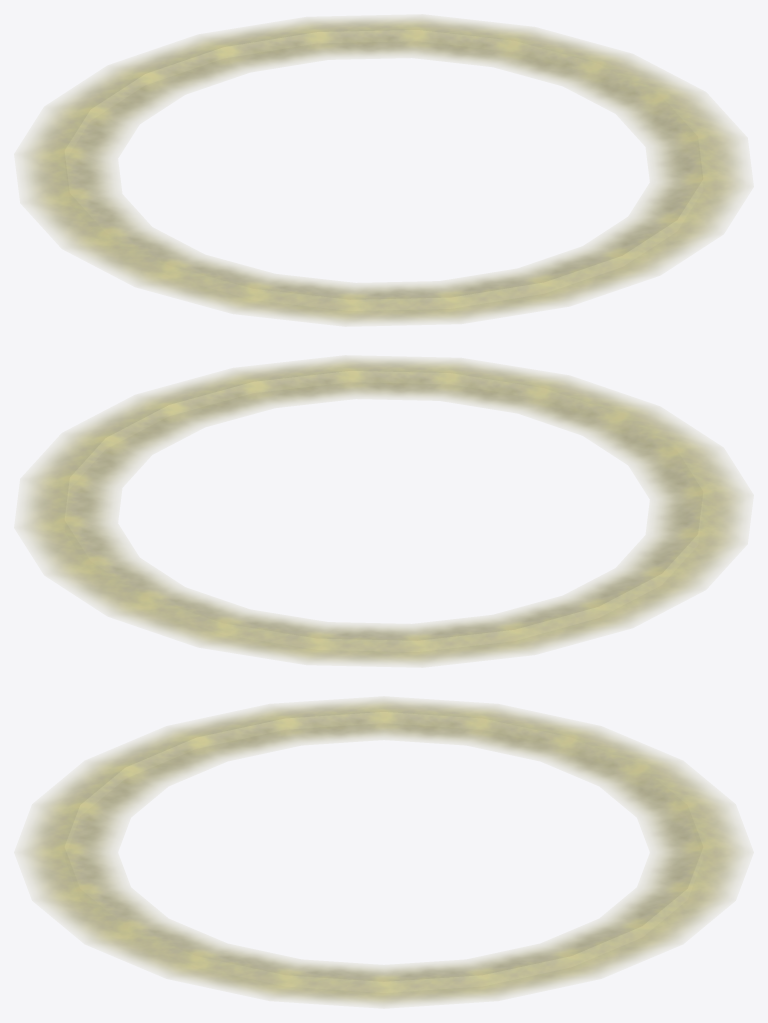
Rendered from pm-mist-01.glb.
The picture shows the model from 3 angles, top to bottom: view 1: azimuth 30°, elevation 25°; view 2: azimuth 150°, elevation 25°; view 3: azimuth 270°, elevation 25°; orthographic projection.
Parts seen in each view (by area): view 1: Mist01_Art; view 2: Mist01_Art; view 3: Mist01_Art.
Part boxes in pixels (bbox=[...]): Mist01_Art: bbox=[17, 15, 750, 325]; Mist01_Art: bbox=[17, 356, 750, 666]; Mist01_Art: bbox=[17, 697, 750, 1007].
Size of the model in its own units: 2.4 by 0.0401 by 2.4.
Materials: 1 (1 with a texture image).
